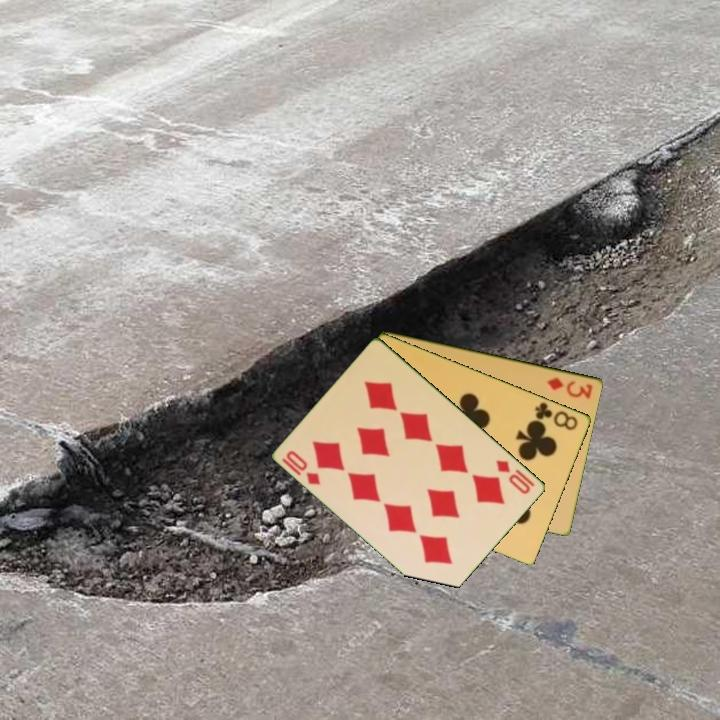10d: (493, 456, 534, 497), (283, 447, 324, 488)
3d: (544, 373, 596, 402)
8c: (531, 398, 581, 433)
